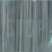Stop: (4, 9, 49, 49)
